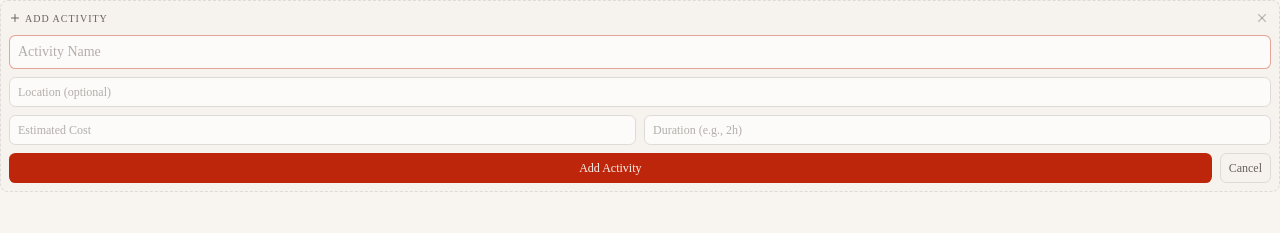
it: AddActivityForm › shows error message when submitting without name
The width and height of the screenshot is (1280, 233).
Click the button "Add Activity": (610, 168) [9,153,1212,183]
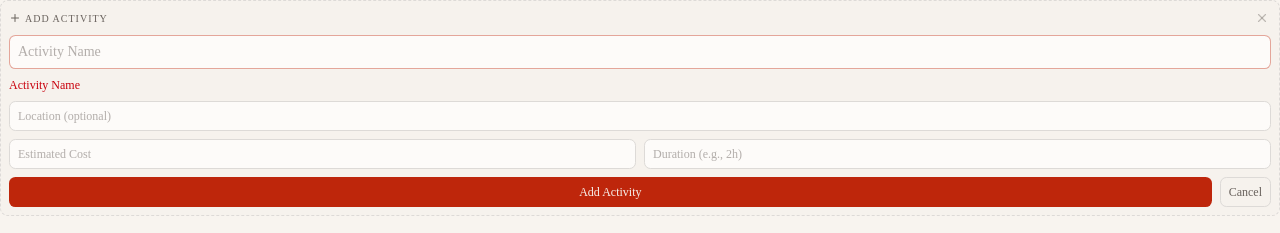
expect the text "Activity Name" is shown: met, box [9,78,80,92]
